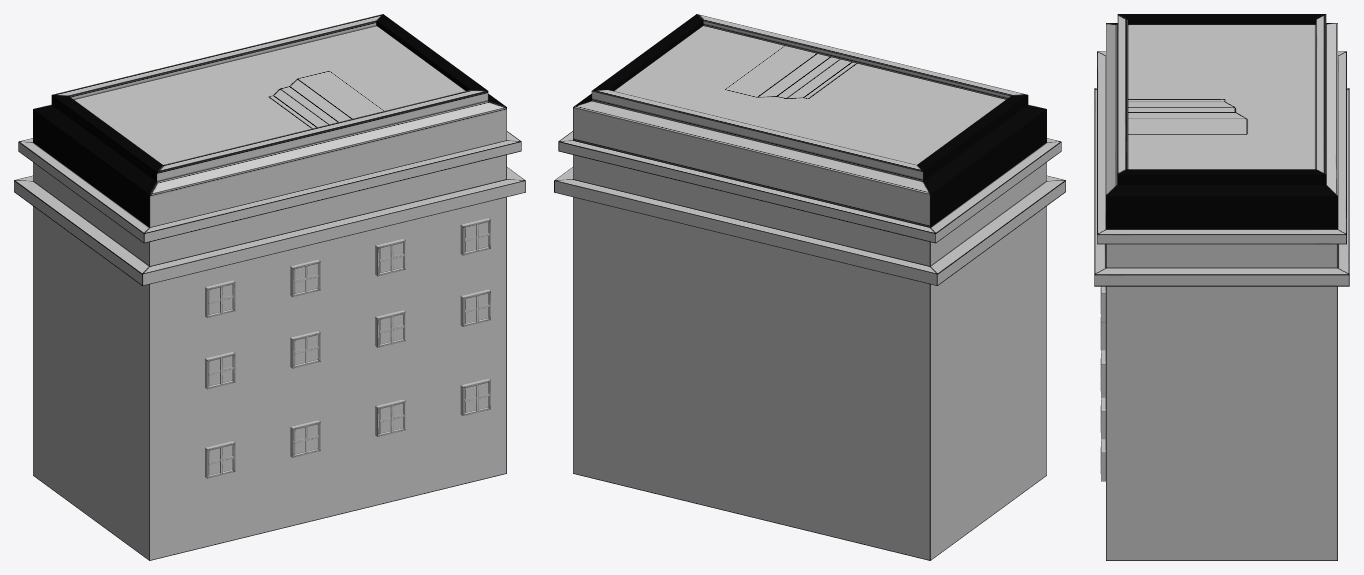
Rendered from Modelo_Predio3.fbx.
3 renders of one model, left to right at view 1: azimuth 30°, elevation 25°; view 2: azimuth 150°, elevation 25°; view 3: azimuth 270°, elevation 25°, orthographic.
Parts seen in each view (by area): view 1: Predio_Variacao_2; view 2: Predio_Variacao_2; view 3: Predio_Variacao_2.
Part boxes in pixels (<box>): Predio_Variacao_2: <box>14,14,525,560</box>; Predio_Variacao_2: <box>554,14,1065,560</box>; Predio_Variacao_2: <box>1094,14,1349,560</box>.
Bounding box in the file's own units: 4497 × 4280 × 2607.
